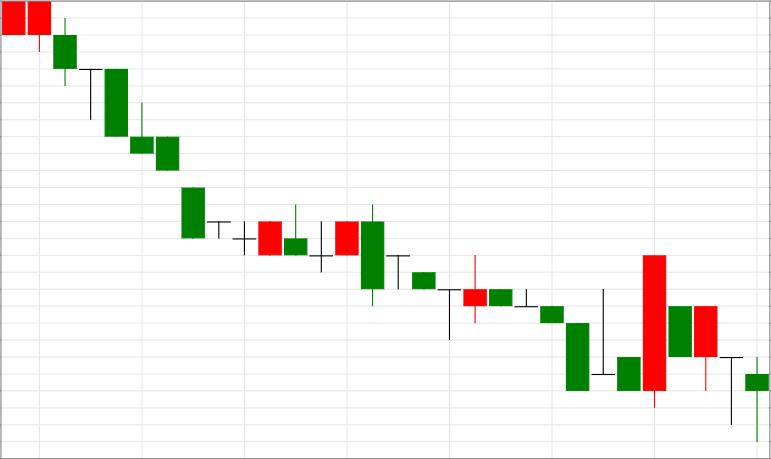bullish_engulfing_rise: (489, 254, 666, 408)
